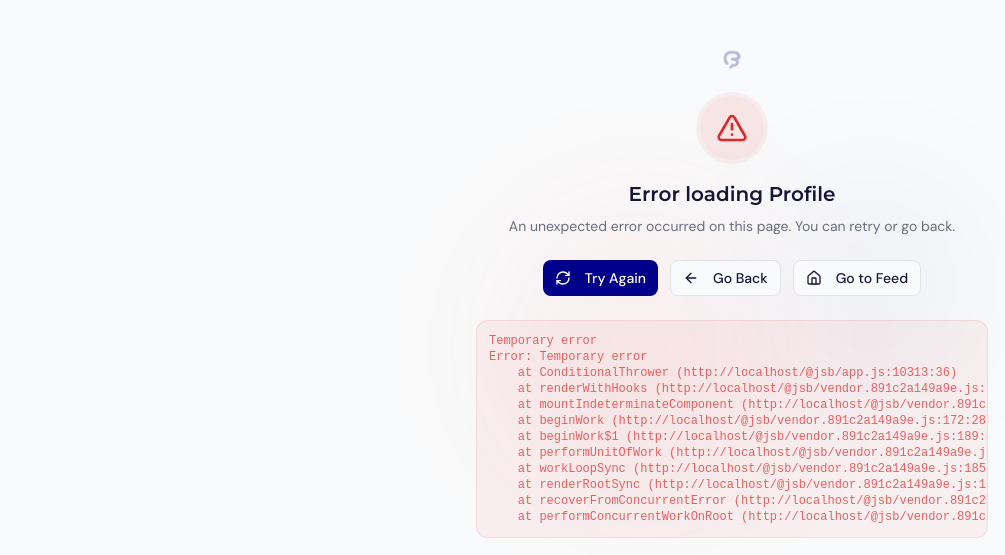
Test case: RouteErrorBoundary › recovers on retry when error is resolved
The image size is (1005, 555).
Expected: the heading "Error loading Profile" is shown, left=629, top=180, right=835, bottom=208
Click the button "Try Again". click: click(600, 278)
box: left=543, top=260, right=658, bottom=296
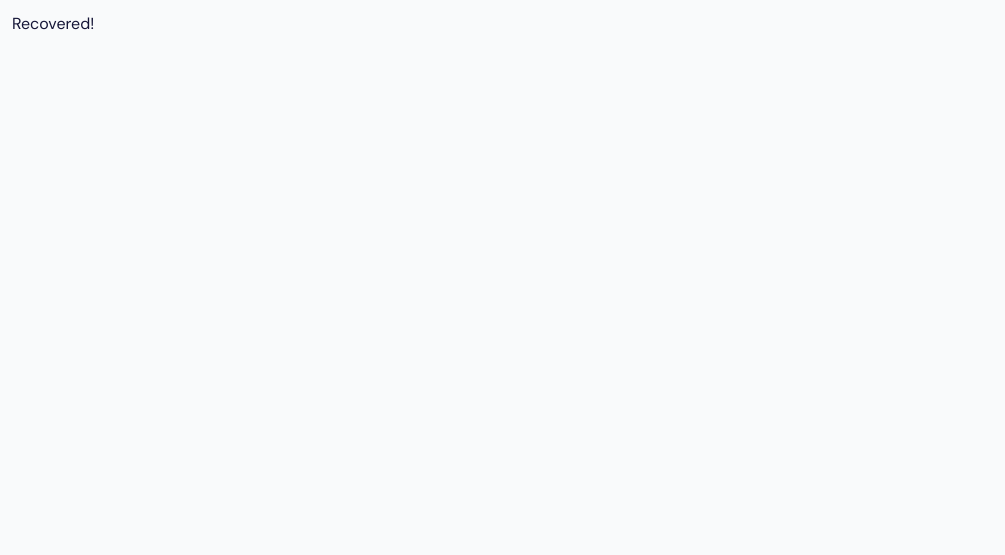
Now the text "Recovered!" is shown, box left=12, top=13, right=94, bottom=34
